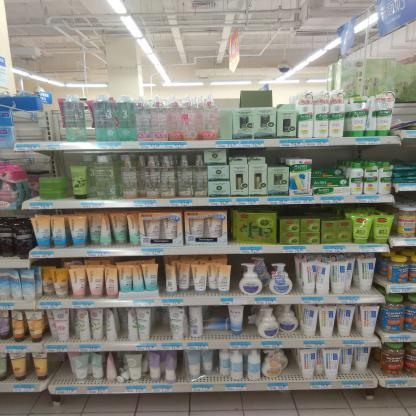Void: (36, 156, 70, 176), (346, 147, 387, 159), (312, 148, 339, 166), (393, 145, 415, 166), (221, 106, 233, 141), (400, 93, 414, 117), (52, 366, 70, 382), (154, 326, 172, 341), (207, 330, 230, 338), (398, 192, 412, 203), (285, 367, 296, 379)
